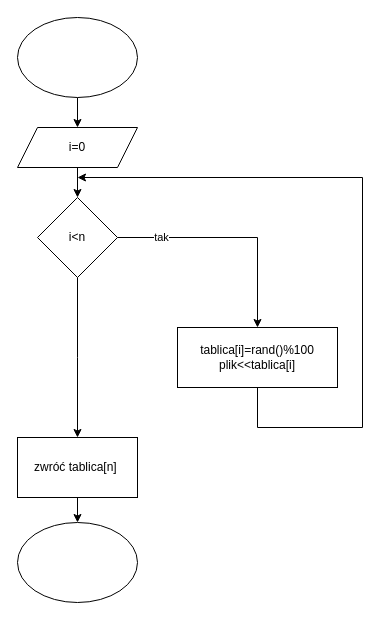
The diagram is 388 pixels wide and 620 high, and some of its shapes have lost their labels. Each missing label, with the centre of its shape:
"START" goes at pixel 77 57.
"STOP" goes at pixel 77 562.
